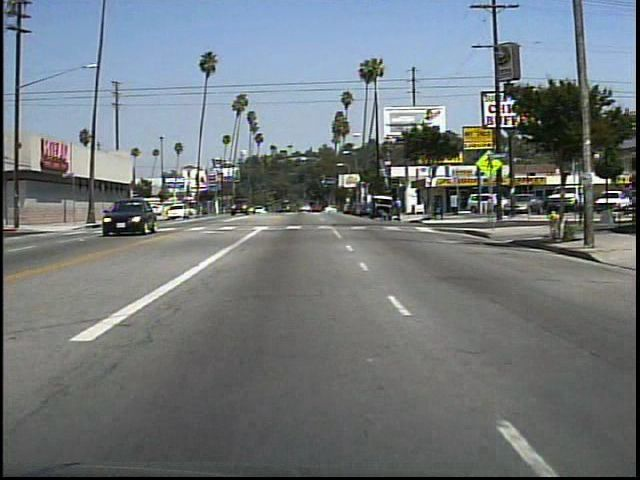person: (392, 194, 407, 225), (114, 198, 128, 224), (377, 207, 393, 226)
